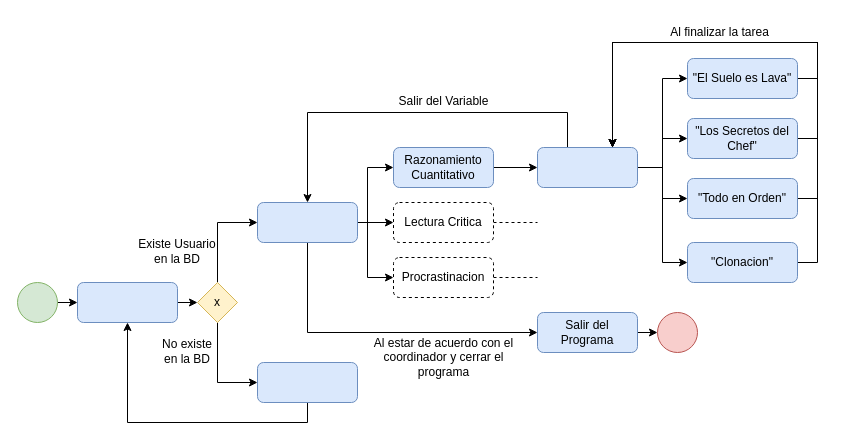
Some shapes in this 843 by 448 pixel diagram are drawn without their labels. Here are the shapes that lost their labels. From the top down, the centre of each, then its label:
At [587,167]: "Menu de Seleccion".
At [307,222]: "Menu Principal".
At [127,302]: "Ingresar Usuario".
At [307,382]: "ERROR".
